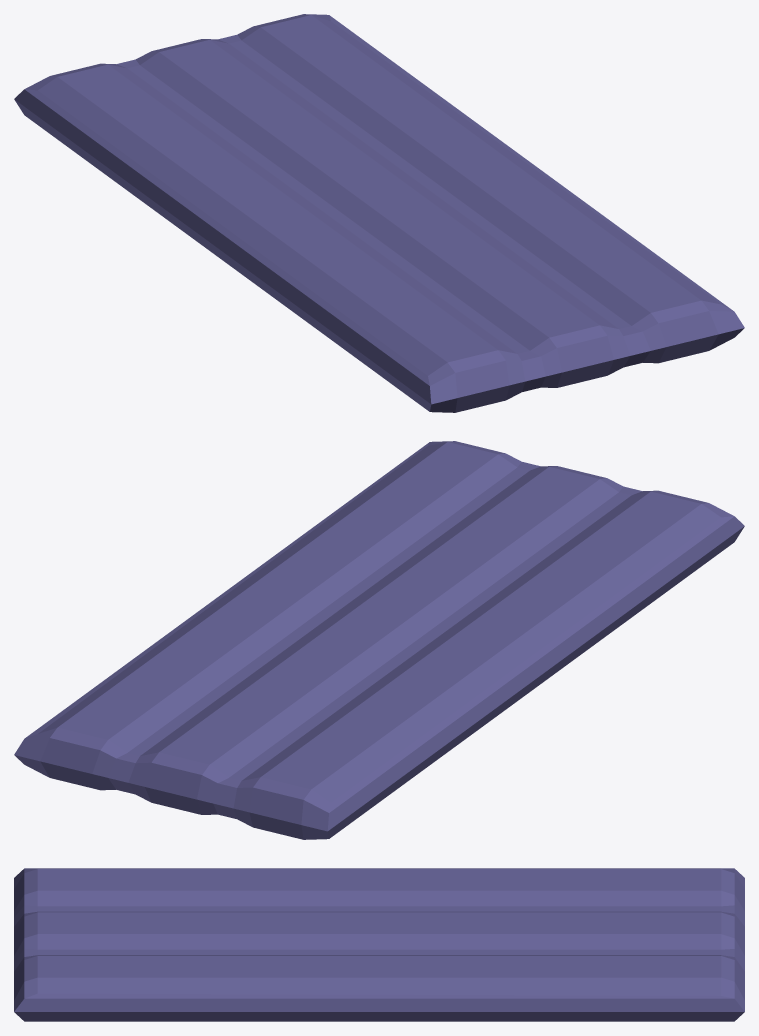
Rendered from Mattress_01.fbx.
3 renders of one model, top to bottom at view 1: azimuth 30°, elevation 25°; view 2: azimuth 150°, elevation 25°; view 3: azimuth 270°, elevation 25°, orthographic. The views are drawn at different scales.
Parts seen in each view (by area): view 1: Mattress_01; view 2: Mattress_01; view 3: Mattress_01.
Part boxes in pixels (x1=…): Mattress_01: x1=14, y1=14, x2=744, y2=412; Mattress_01: x1=14, y1=441, x2=744, y2=839; Mattress_01: x1=14, y1=868, x2=744, y2=1021.
Bounding box in the file's own units: 84.35 × 12.73 × 194.
